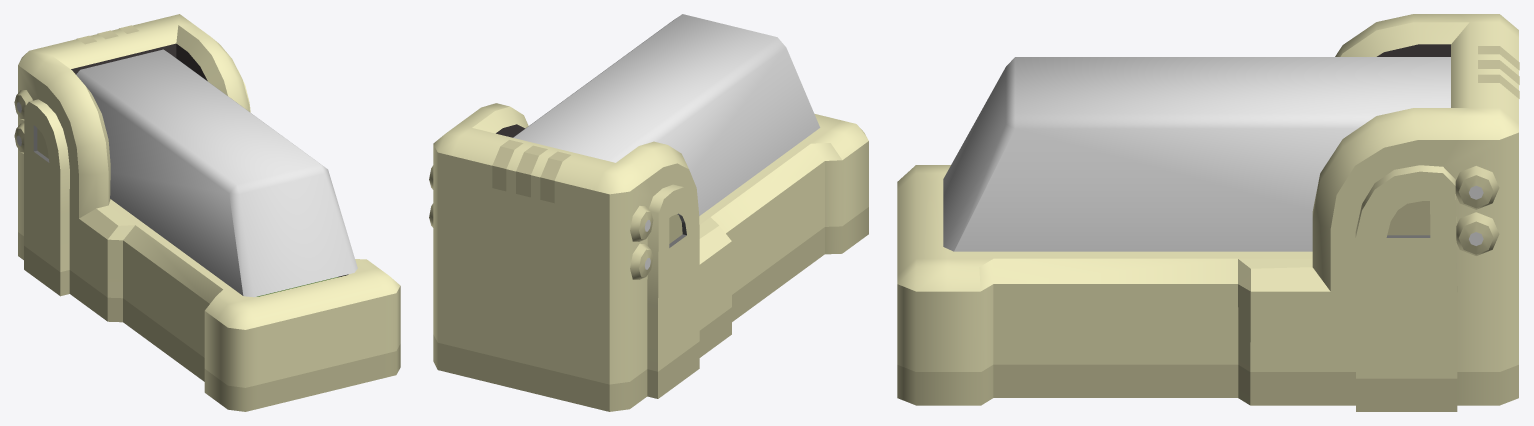
The model's file is Sleeper Bed.fbx.
3 views of the same model, side by side, from view 1: azimuth 30°, elevation 25°; view 2: azimuth 150°, elevation 25°; view 3: azimuth 270°, elevation 25° (orthographic). The views are drawn at different scales.
Parts seen in each view (by area): view 1: Sleeper, Sleeper Cover; view 2: Sleeper, Sleeper Cover; view 3: Sleeper, Sleeper Cover.
Boxes of the visible parts, x1,y1,x2,y2 form: Sleeper: [14, 14, 400, 411]; Sleeper Cover: [76, 49, 357, 297]; Sleeper: [429, 103, 868, 411]; Sleeper Cover: [513, 14, 820, 215]; Sleeper: [897, 14, 1519, 411]; Sleeper Cover: [943, 57, 1450, 251].
Bounding box in the file's own units: 0.9778 × 0.9904 × 1.98.
